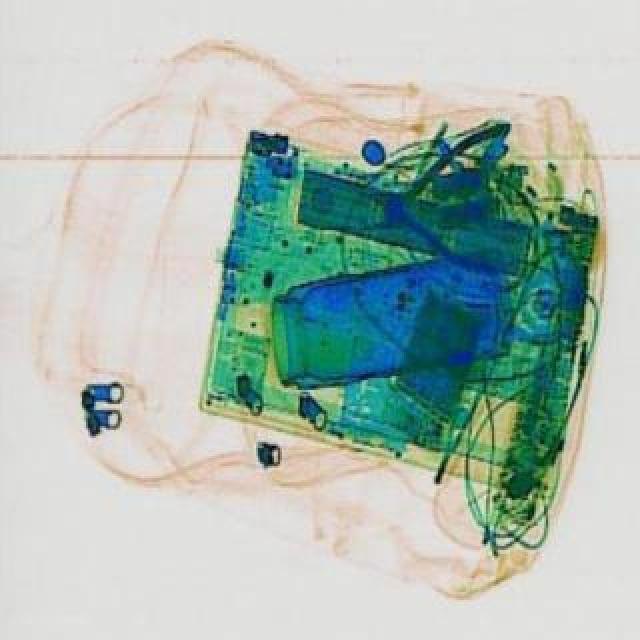wrench: (356, 118, 528, 286)
